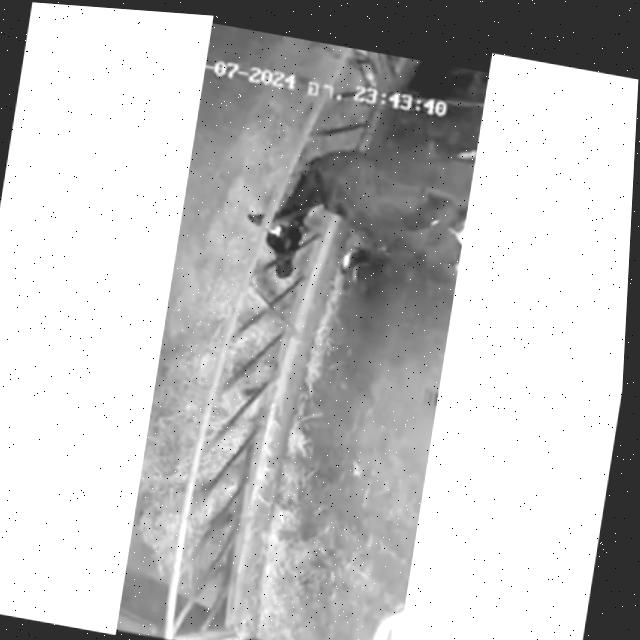eat: (218, 125, 372, 306)
